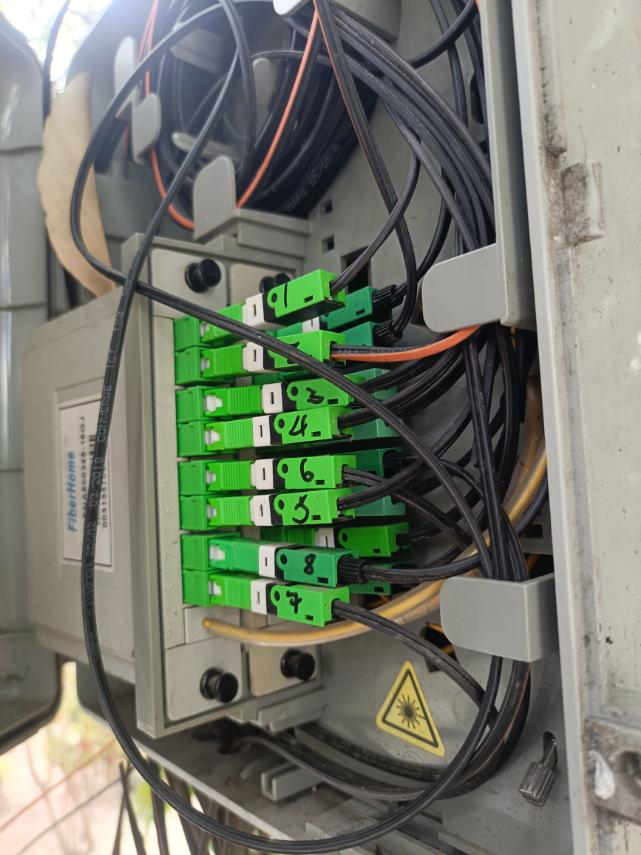occupied: (196, 265, 345, 348), (211, 537, 370, 592), (273, 278, 404, 344), (270, 317, 403, 382), (209, 574, 353, 633), (206, 404, 358, 456), (203, 331, 346, 383), (203, 373, 366, 418), (268, 402, 411, 451), (206, 452, 357, 494), (269, 367, 404, 412), (208, 488, 354, 529), (274, 447, 408, 485), (281, 521, 416, 557), (269, 565, 415, 596), (276, 482, 409, 515)
